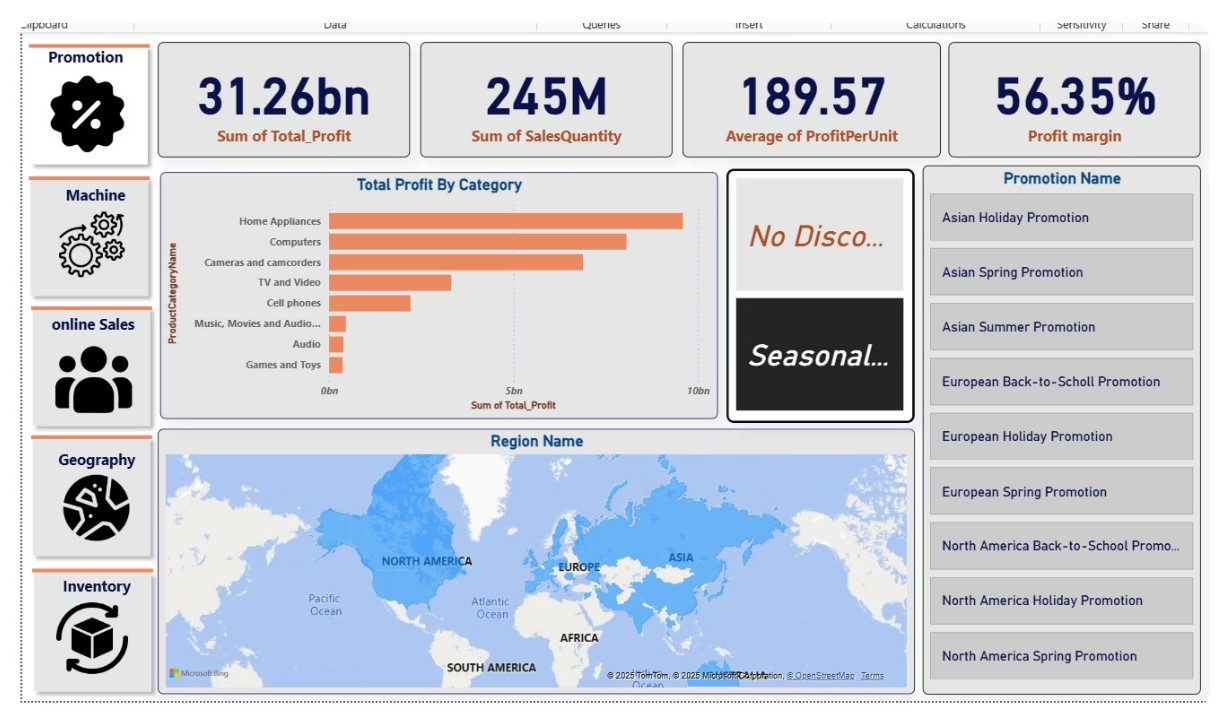

What the dashboard file says about the page in this screenshot:
{"tool":"powerbi","page":{"name":"Promotion Effectiveness Analysis","canvas":[1280,720],"ordinal":0},"visuals":[{"type":"filledMap","title":"Region Name ","fields":{"Category":["Final Promotion_Effectiveness_Analysis.RegionCountryName"]},"box":[146,427.1,814.3,285.9],"z":0},{"type":"advancedSlicerVisual","fields":{"Values":["Final Promotion_Effectiveness_Analysis.PromotionType"]},"box":[757.6,147.2,202.7,273.9],"z":1000},{"type":"barChart","title":"Total Profit By Category","fields":{"Category":["Final Inventory_Status_Analysis.ProductCategoryName"],"Y":["Sum(Final Promotion_Effectiveness_Analysis.Total_Profit)"]},"box":[148.4,150.8,599.6,265.4],"z":2000},{"type":"shape","box":[0,5.7,143.9,145.2],"z":3000},{"type":"shape","box":[7,0,130,30],"z":4000},{"type":"textbox","box":[23,10.9,113.9,38.7],"z":5000},{"type":"shape","box":[0,147.1,144.3,145.7],"z":6000},{"type":"shape","box":[2.9,287.1,144.3,145.7],"z":7000},{"type":"shape","box":[2.9,427.1,144.3,145.7],"z":8000},{"type":"shape","box":[3.6,572.9,144.3,145.7],"z":9000},{"type":"shape","box":[7.1,142.9,130,30],"z":10000},{"type":"shape","box":[10,282.9,130,30],"z":11000},{"type":"shape","box":[10,420.7,130,30],"z":12000},{"type":"shape","box":[10.7,565,130,30],"z":13000},{"type":"textbox","box":[21.8,159.1,114.5,39.1],"z":14000},{"type":"textbox","box":[26.4,298.2,114.5,39.1],"z":15000},{"type":"textbox","box":[22.7,443.6,114.5,39.1],"z":16000},{"type":"textbox","box":[22.7,580,114.5,39.1],"z":17000},{"type":"image","box":[21.2,42.5,96.2,92.5],"z":18000},{"type":"image","box":[32.5,185,85,87.5],"z":19000},{"type":"image","box":[33.8,471.2,91.2,81.2],"z":20000},{"type":"image","box":[30,328.8,93.8,92.5],"z":21000},{"type":"image","box":[26.2,602.5,97.5,101.2],"z":22000},{"type":"card","fields":{"Values":["Sum(Final Promotion_Effectiveness_Analysis.Total_Profit)"]},"box":[146,10.9,271.4,124.3],"z":23000},{"type":"card","fields":{"Values":["Sum(Final Promotion_Effectiveness_Analysis.SalesQuantity)"]},"box":[428.3,10.9,271.4,124.3],"z":24000},{"type":"card","fields":{"Values":["Avg(Final Promotion_Effectiveness_Analysis.ProfitPerUnit)"]},"box":[710.6,10.9,277.5,124.3],"z":25000},{"type":"card","fields":{"Values":["Final Promotion_Effectiveness_Analysis.Profit margin"]},"box":[996.5,10.9,271.4,124.3],"z":26000},{"type":"advancedSlicerVisual","title":"Promotion Name","fields":{"Values":["Final Promotion_Effectiveness_Analysis.PromotionName"]},"box":[968.8,143.6,299.2,569.4],"z":27000}]}

Visuals, with their boxes on the page's 1280x720 design canvas (x1, y1, x2, y2). These are canvas units, not pixel positions in the 1221x717 screenshot, which may show the page scaled, cropped or inside an application window:
"Region Name " filledMap: box(146, 427, 960, 713)
advancedSlicerVisual - Final Promotion_Effectiveness_Analysis.PromotionType: box(758, 147, 960, 421)
"Total Profit By Category" barChart: box(148, 151, 748, 416)
shape: box(0, 6, 144, 151)
shape: box(7, 0, 137, 30)
textbox: box(23, 11, 137, 50)
shape: box(0, 147, 144, 293)
shape: box(3, 287, 147, 433)
shape: box(3, 427, 147, 573)
shape: box(4, 573, 148, 719)
shape: box(7, 143, 137, 173)
shape: box(10, 283, 140, 313)
shape: box(10, 421, 140, 451)
shape: box(11, 565, 141, 595)
textbox: box(22, 159, 136, 198)
textbox: box(26, 298, 141, 337)
textbox: box(23, 444, 137, 483)
textbox: box(23, 580, 137, 619)
image: box(21, 42, 117, 135)
image: box(32, 185, 118, 272)
image: box(34, 471, 125, 552)
image: box(30, 329, 124, 421)
image: box(26, 602, 124, 704)
card - Sum(Final Promotion_Effectiveness_Analysis.Total_Profit): box(146, 11, 417, 135)
card - Sum(Final Promotion_Effectiveness_Analysis.SalesQuantity): box(428, 11, 700, 135)
card - Avg(Final Promotion_Effectiveness_Analysis.ProfitPerUnit): box(711, 11, 988, 135)
card - Final Promotion_Effectiveness_Analysis.Profit margin: box(996, 11, 1268, 135)
"Promotion Name" advancedSlicerVisual: box(969, 144, 1268, 713)
